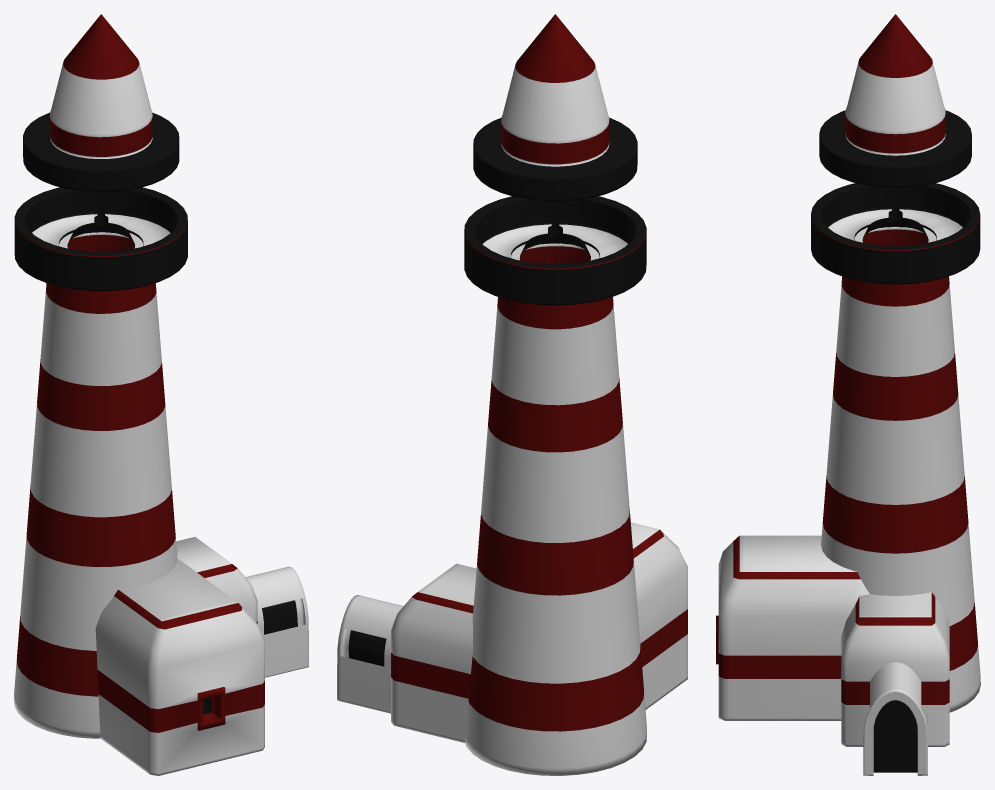
The model's file is LightHouse.fbx.
3 views of the same model, side by side, from view 1: azimuth 30°, elevation 25°; view 2: azimuth 150°, elevation 25°; view 3: azimuth 270°, elevation 25° (orthographic). The views are drawn at different scales.
Visible parts, largest first — view 1: Cylinder; view 2: Cylinder; view 3: Cylinder.
Part boxes in pixels (left/top/right/bottom): Cylinder: left=14, top=14, right=308, bottom=775; Cylinder: left=337, top=14, right=687, bottom=775; Cylinder: left=716, top=14, right=980, bottom=775.
Bounding box in the file's own units: 11 × 12.49 × 30.78.
